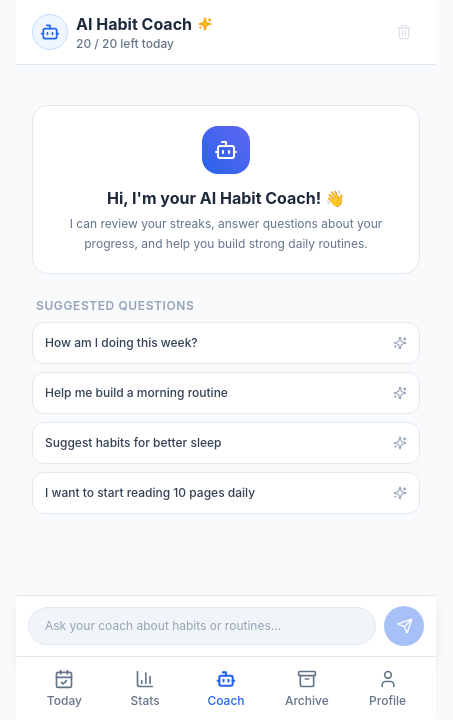
Scenario: CoachPage (Step 10.4) › sends message via starter question chip
This screenshot has width=453, height=720.
Check: the text "How am I doing this week?" is shown, box [45,335,198,351]
Step 1. Click the button "How am I doing this week?" → point(121, 342), box [32,322,420,364]
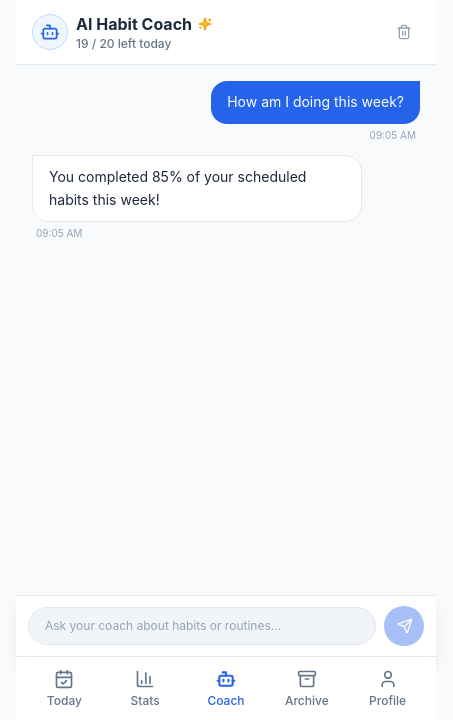
Check: the text "You completed 85% of your scheduled habits this week!" is shown, box [49,166,345,211]
Check: the text "19 / 20 left today" is shown, box [76,36,171,51]
